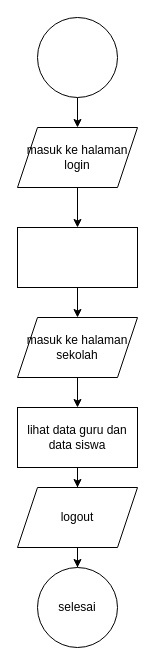
Image size: 155x665. Some labels were removed from this diagram. Here are the shapes that lost their labels. From the top down, the box of each, then its label:
(36, 16, 118, 98): mulai
(16, 226, 138, 288): input username dan password akun orang tua
